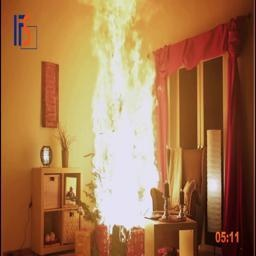fire: (77, 0, 184, 234)
